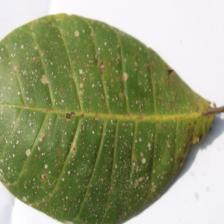red rust: (0, 11, 223, 223)
